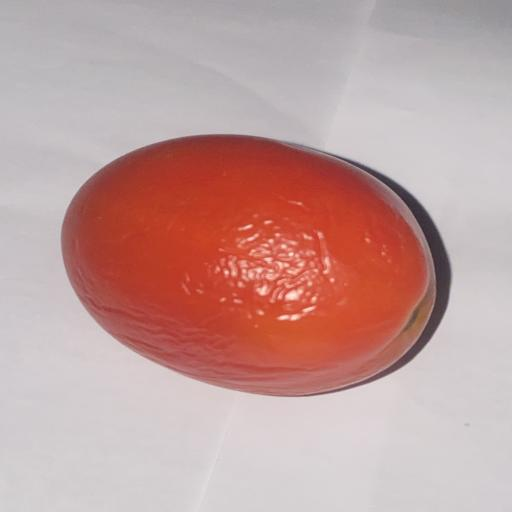spoiled: (62, 135, 435, 396)
